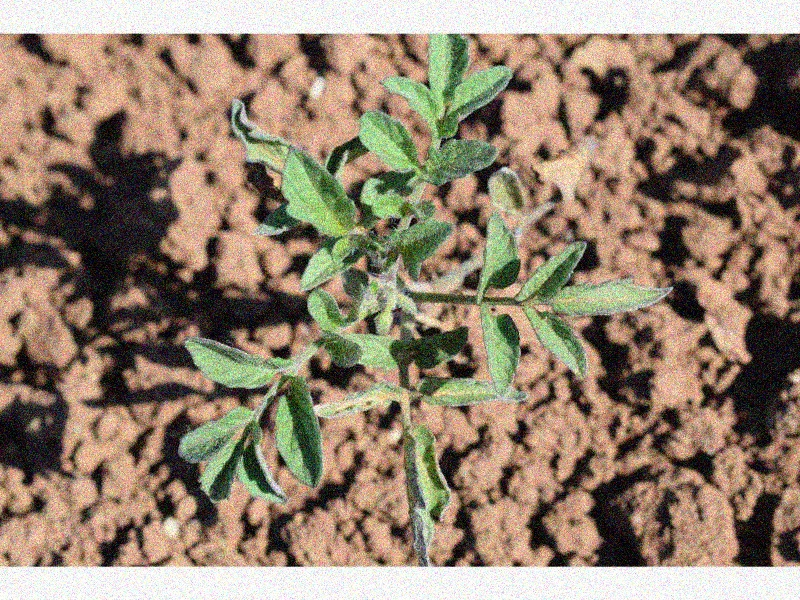tomato: (179, 30, 671, 566)
